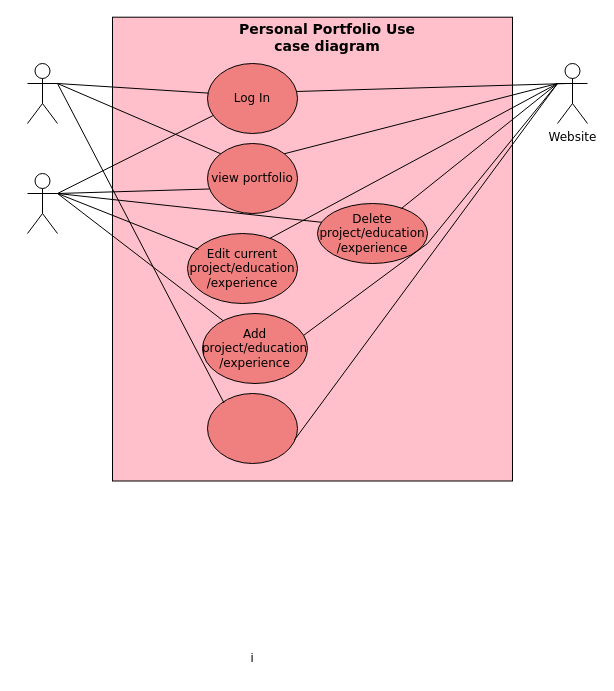
Some shapes in this 614 by 691 pixel diagram are drawn without their labels. Here are the shapes that lost their labels. From the top down, the centre of each, then its label:
the point at 42,93: User 0
the point at 42,203: Admin 1
the point at 252,428: Log Out
